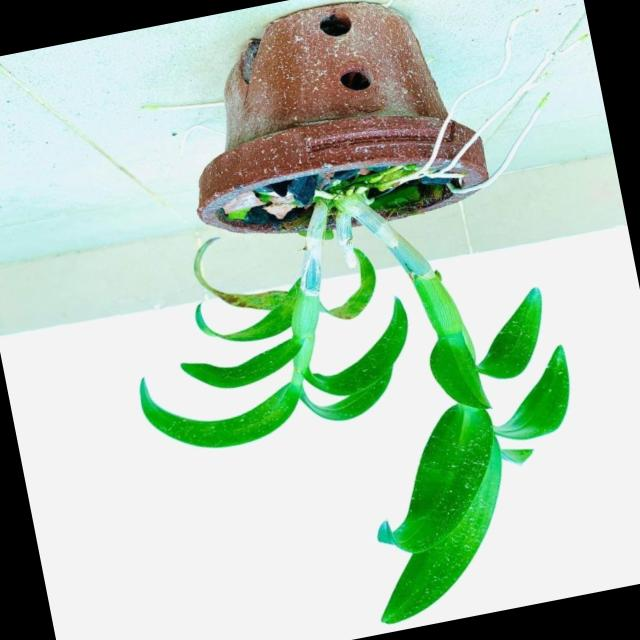leaf: (384, 412, 504, 624), (378, 405, 495, 553), (308, 301, 410, 423), (138, 378, 303, 450), (495, 346, 572, 444), (195, 239, 287, 310), (196, 281, 299, 341), (480, 288, 544, 381), (182, 339, 301, 388), (430, 328, 489, 408), (327, 253, 378, 320), (501, 448, 532, 465)
plant: (51, 0, 640, 640)
pot: (147, 0, 504, 270)
root: (400, 9, 573, 183), (452, 106, 539, 193)
stem: (349, 201, 475, 358), (293, 201, 329, 374), (336, 212, 357, 267)
